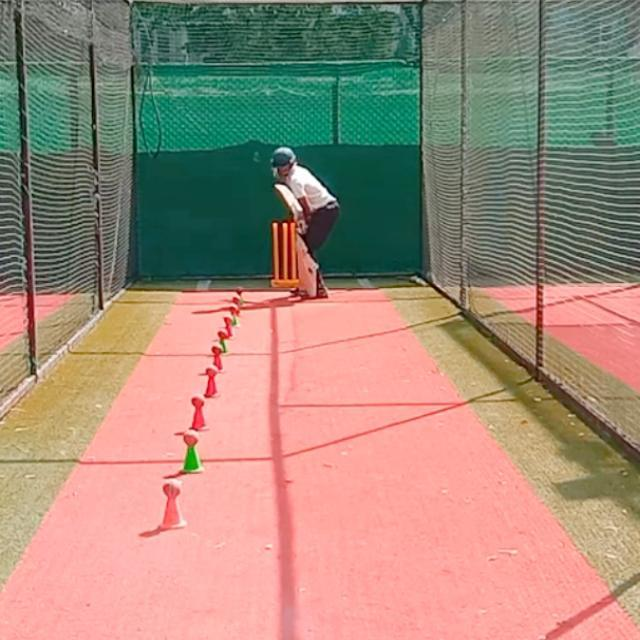bat: (273, 184, 303, 219)
